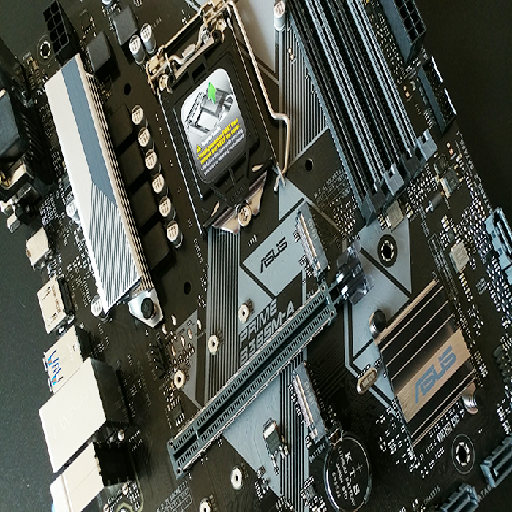CPU: (146, 2, 264, 232)
GPU: (168, 245, 373, 479)
MOTHERBOARD: (1, 2, 511, 512)
RAM: (281, 1, 436, 222)
SSD: (287, 362, 337, 453)
